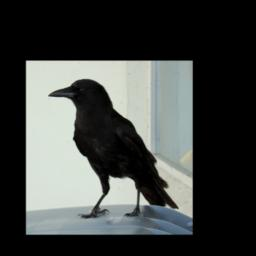Crow: (46, 78, 178, 220)
